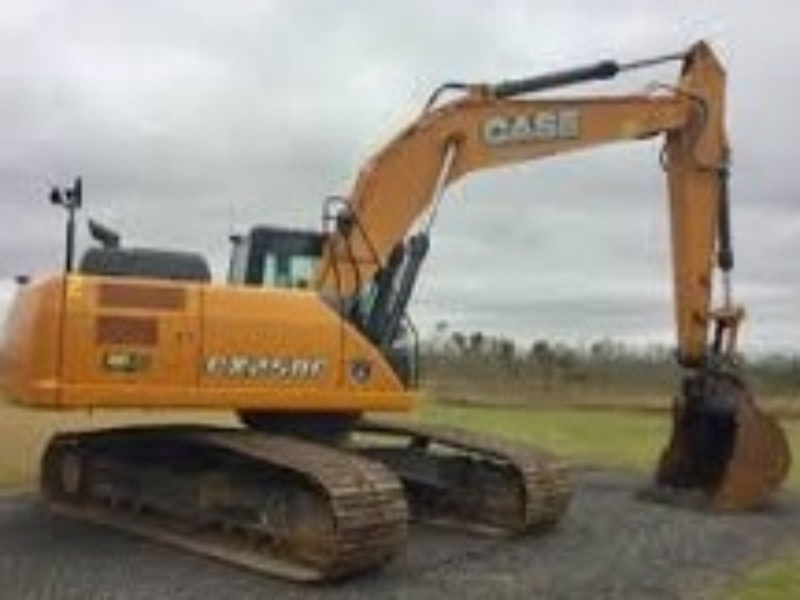wajueji: (6, 148, 616, 588)
